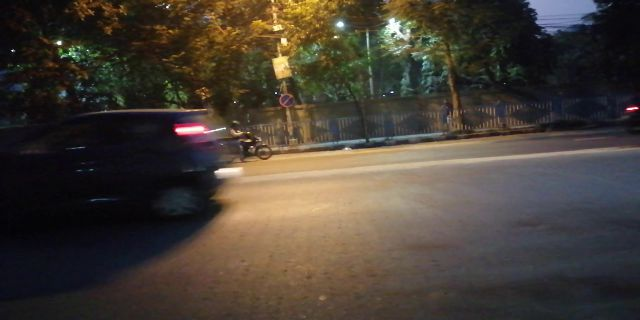Car: (12, 105, 221, 226)
